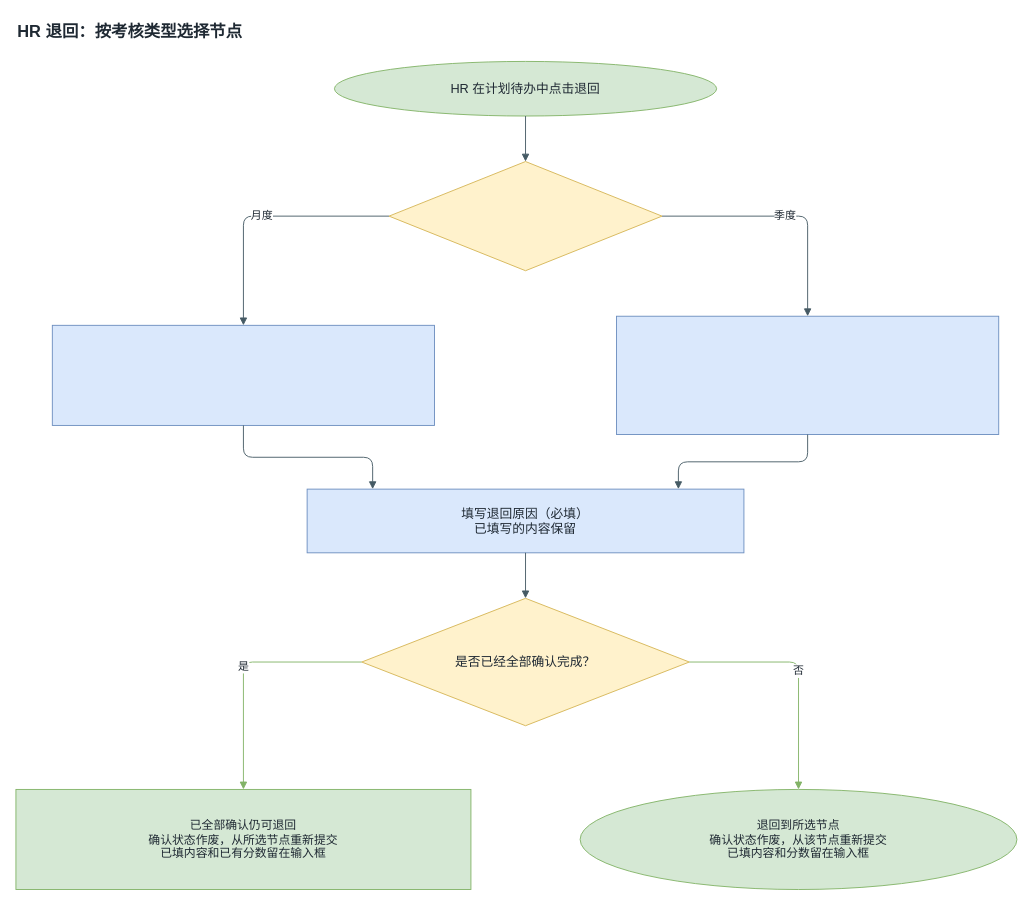
This 1033x905 diagram has some shape labels left out. Each missing label, with the centre of its shape:
"季度可选节点 员工填写 上级评分 分管评分 只能选已经到达过的节点" goes at point 807,375.
"月度可选节点 员工填写 上级评分 只能选已经到达过的节点" goes at point 243,374.
"考核类型？" goes at point 525,216.
